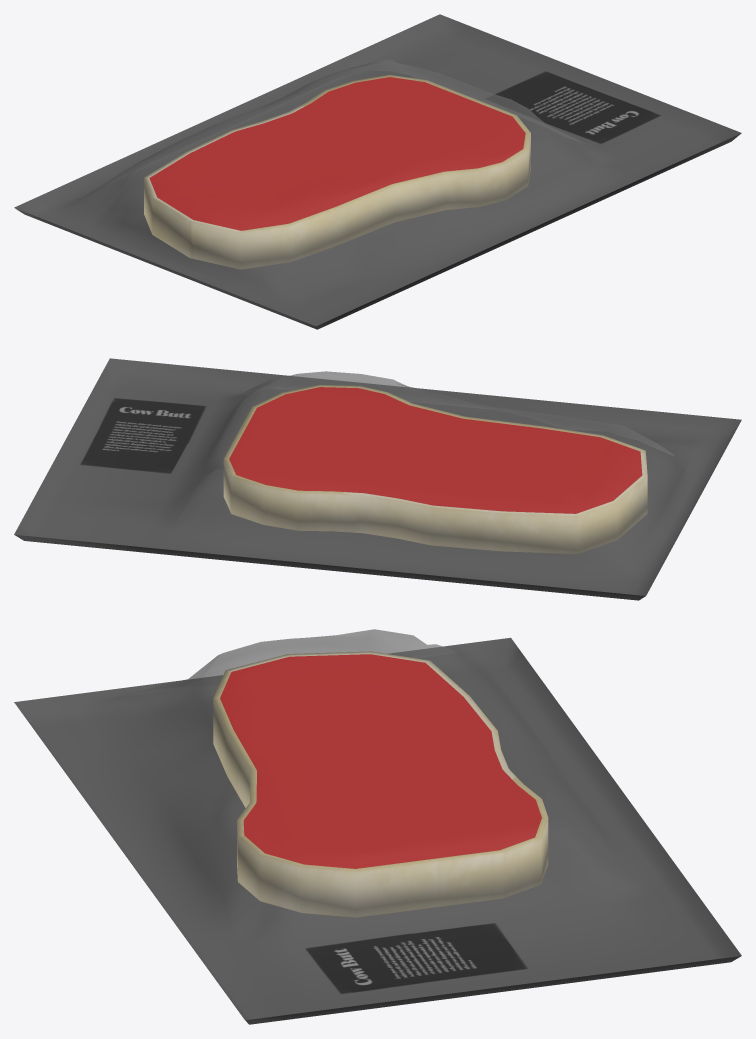
The model's file is beef.fbx.
3 renders of one model, top to bottom at view 1: azimuth 30°, elevation 25°; view 2: azimuth 150°, elevation 25°; view 3: azimuth 270°, elevation 25°, orthographic. The views are drawn at different scales.
Visible parts, largest first — view 1: Beef; view 2: Beef; view 3: Beef.
Boxes of the visible parts, bbox=[...] form: Beef: bbox=[14, 14, 741, 329]; Beef: bbox=[14, 358, 741, 600]; Beef: bbox=[14, 629, 741, 1024].
Size of the model in its own units: 348 by 28.31 by 280.
